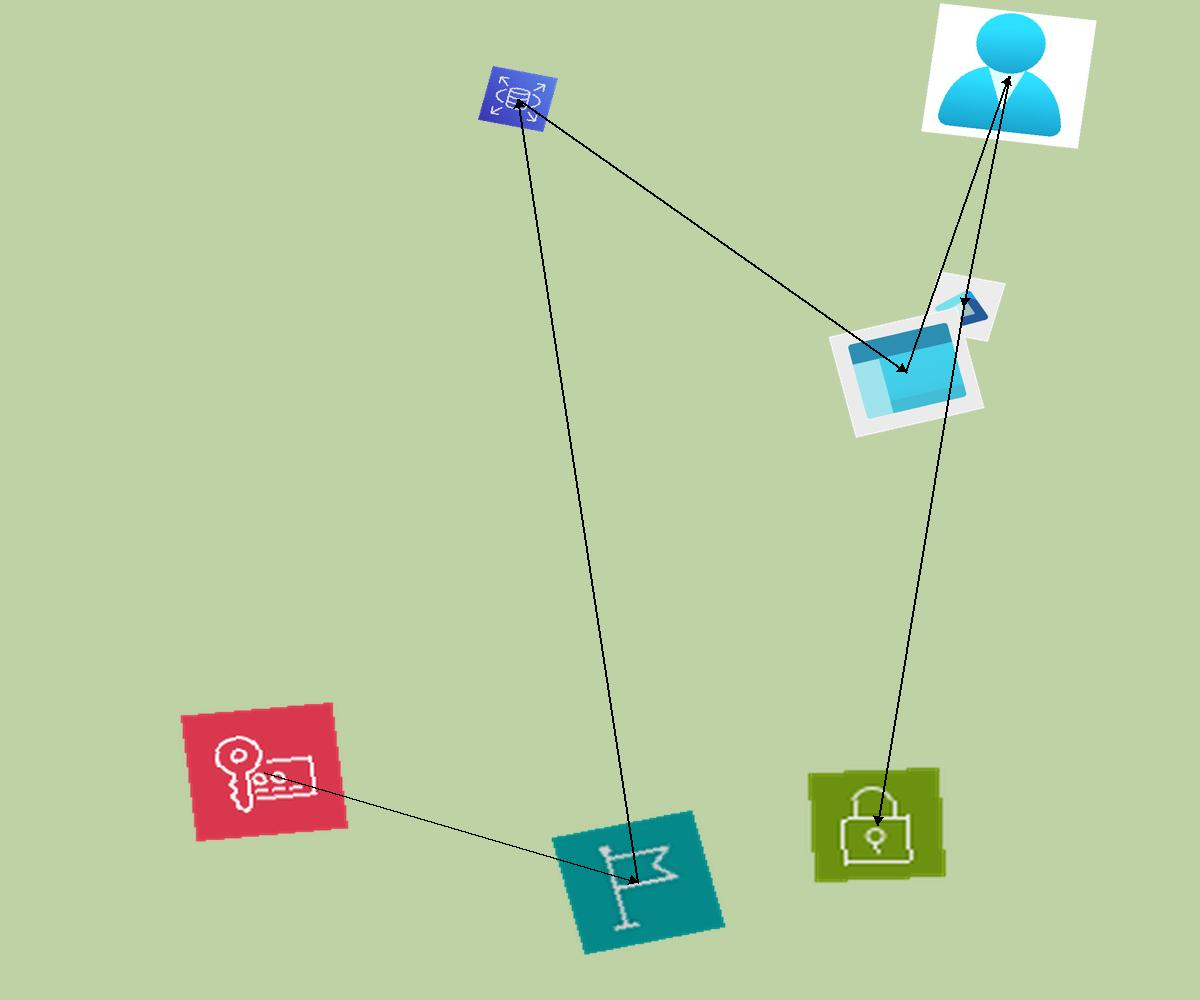AWS-Key-Management-Service: (179, 701, 350, 843)
AWS-Public-subnet: (805, 765, 949, 885)
AWS-RDS: (478, 66, 558, 132)
AWS-Region: (550, 809, 727, 956)
Azure_management-portal: (828, 307, 985, 438)
Azure_microsoft_entra: (921, 271, 1006, 342)
Azure_users: (921, 3, 1097, 149)
